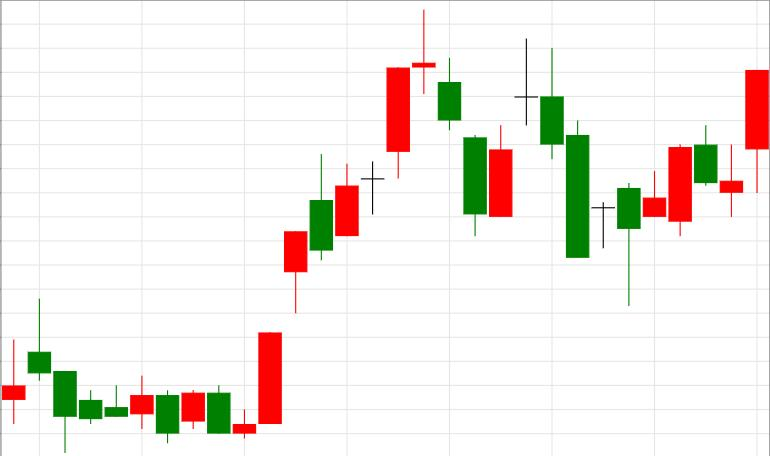evening_star_fall: (233, 11, 460, 440)
